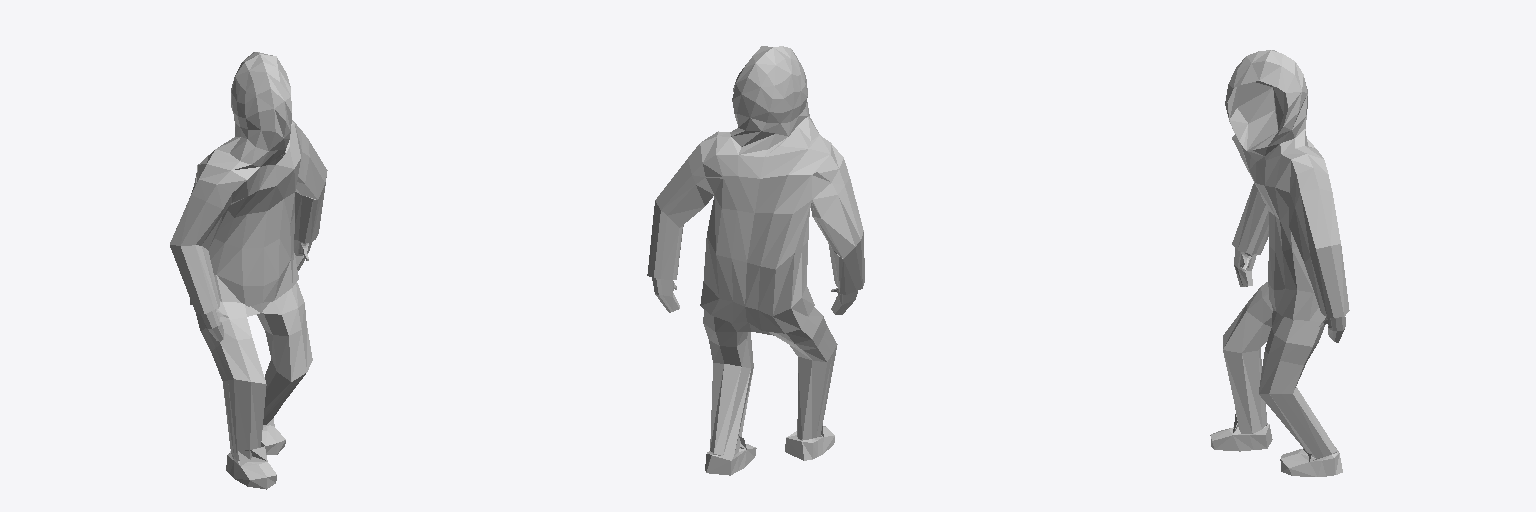
Rendered from Shadowmanv_000014.obj.
3 renders of one model, left to right at view 1: azimuth 30°, elevation 25°; view 2: azimuth 150°, elevation 25°; view 3: azimuth 270°, elevation 25°, orthographic.
Parts seen in each view (by area): view 1: Cube.000; view 2: Cube.000; view 3: Cube.000.
Boxes of the visible parts, <box> form: Cube.000: <box>170,52,327,489</box>; Cube.000: <box>647,46,864,475</box>; Cube.000: <box>1210,50,1349,476</box>.
Size of the model in its own units: 5.18 by 11.32 by 3.47.